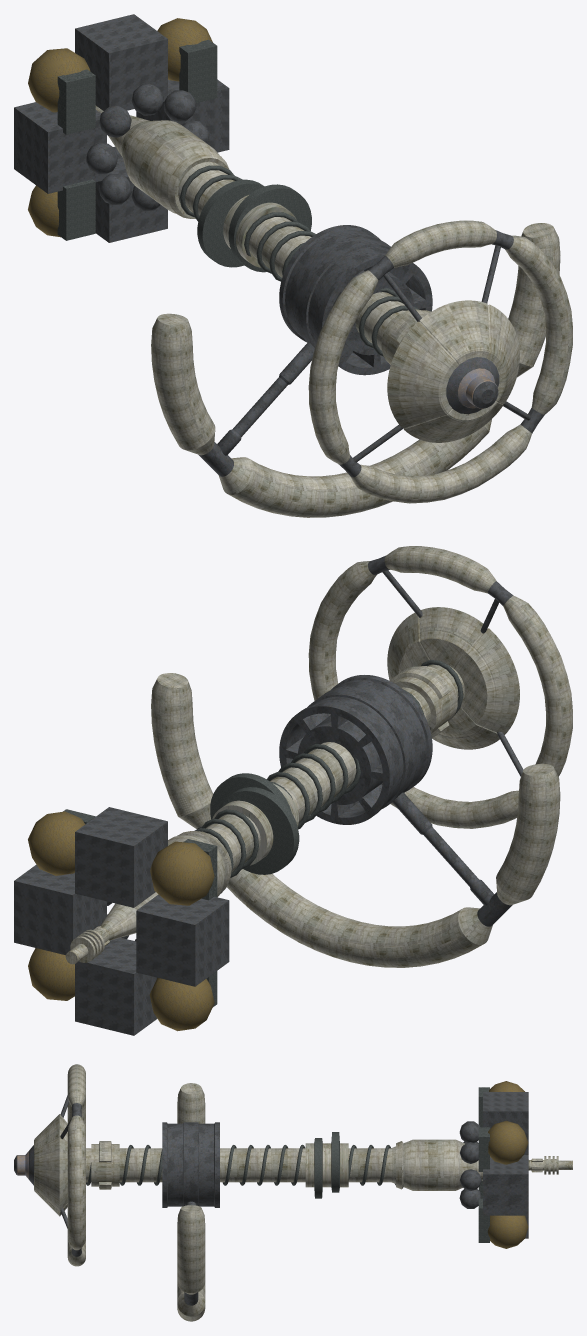
The model's file is JumpDrive.dae.
The picture shows the model from 3 angles, top to bottom: view 1: azimuth 30°, elevation 25°; view 2: azimuth 150°, elevation 25°; view 3: azimuth 270°, elevation 25°; orthographic projection. The views are drawn at different scales.
Parts seen in each view (by area): view 1: JumpDrive; view 2: JumpDrive; view 3: JumpDrive.
Boxes of the visible parts, x1,y1,x2,y2 form: JumpDrive: (14, 14, 572, 517); JumpDrive: (14, 546, 572, 1035); JumpDrive: (14, 1064, 572, 1321).
Bounding box in the file's own units: 817 × 1460 × 674.
